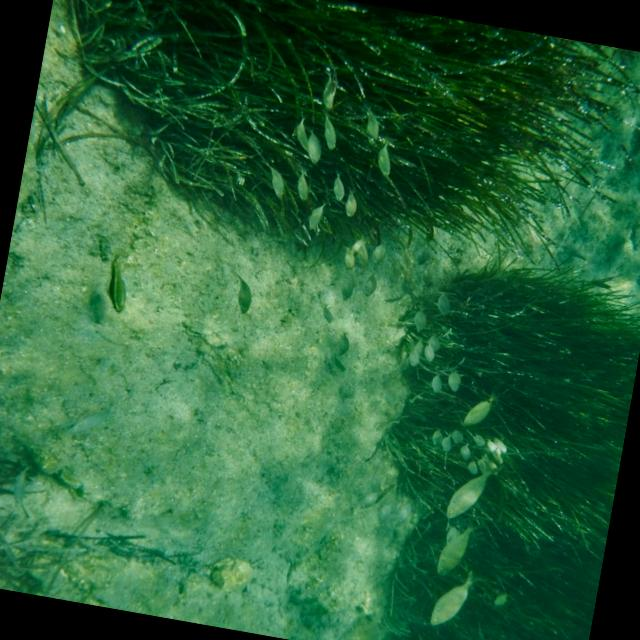Sokar Baligi: (438, 450, 507, 530), (420, 559, 488, 640), (94, 246, 146, 320), (453, 383, 504, 436)
